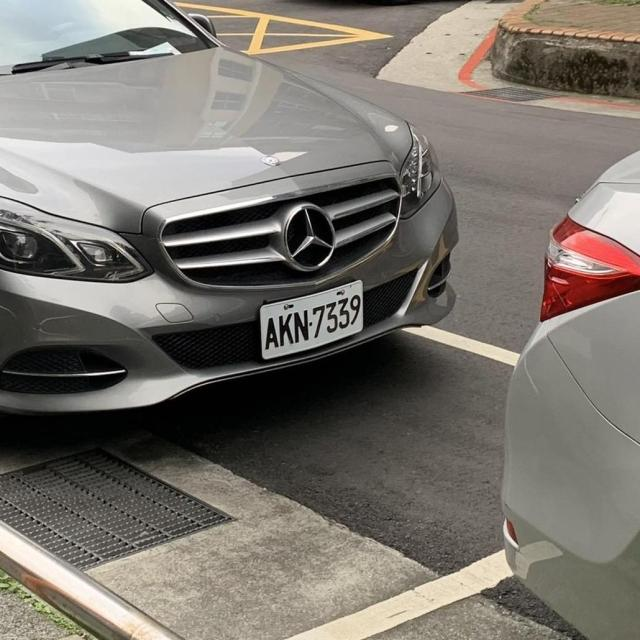W: (247, 276, 379, 366)
